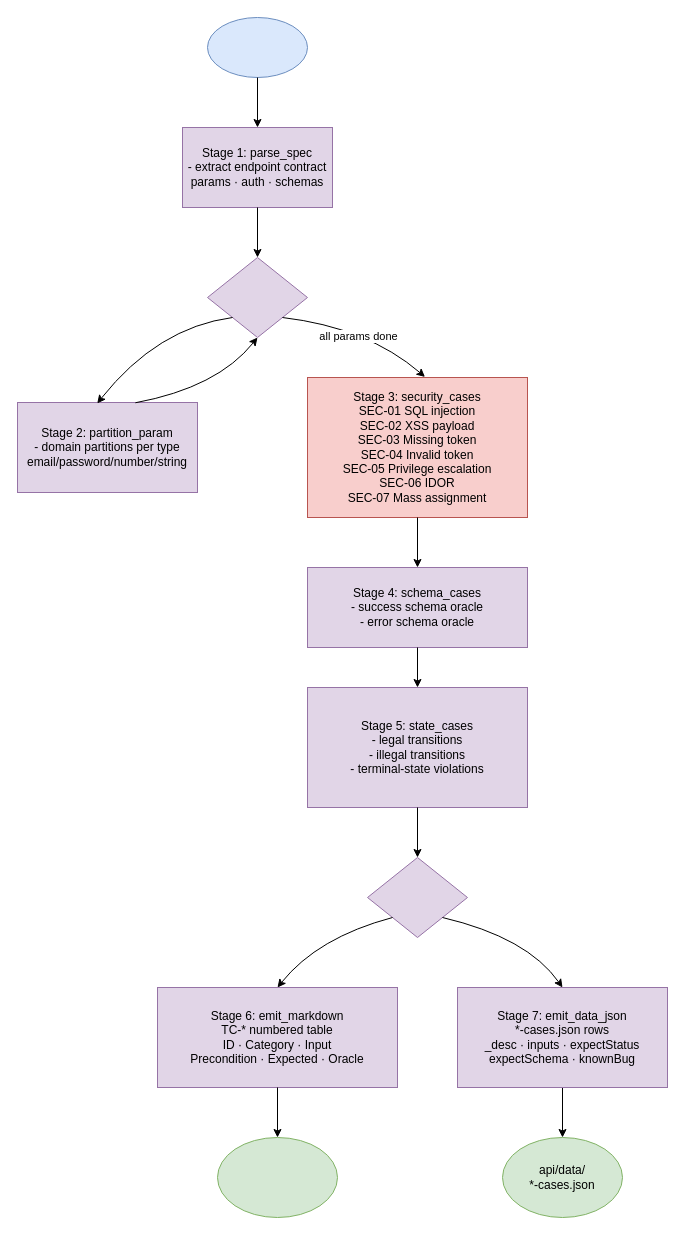
Some shapes in this 685 by 1235 pixel diagram are drawn without their labels. Here are the shapes that lost their labels. From the top down, the box of each, then its label:
(206, 16, 308, 78): API Spec Markdown
(206, 256, 308, 338): For each parameter
(366, 856, 468, 938): Emit outputs
(216, 1136, 338, 1218): test-cases/FR-XX/ ai-generated.md
